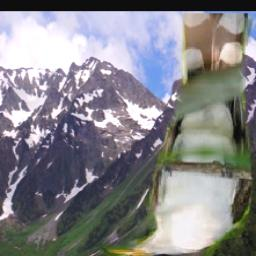Cuckoo: (100, 13, 256, 256)
